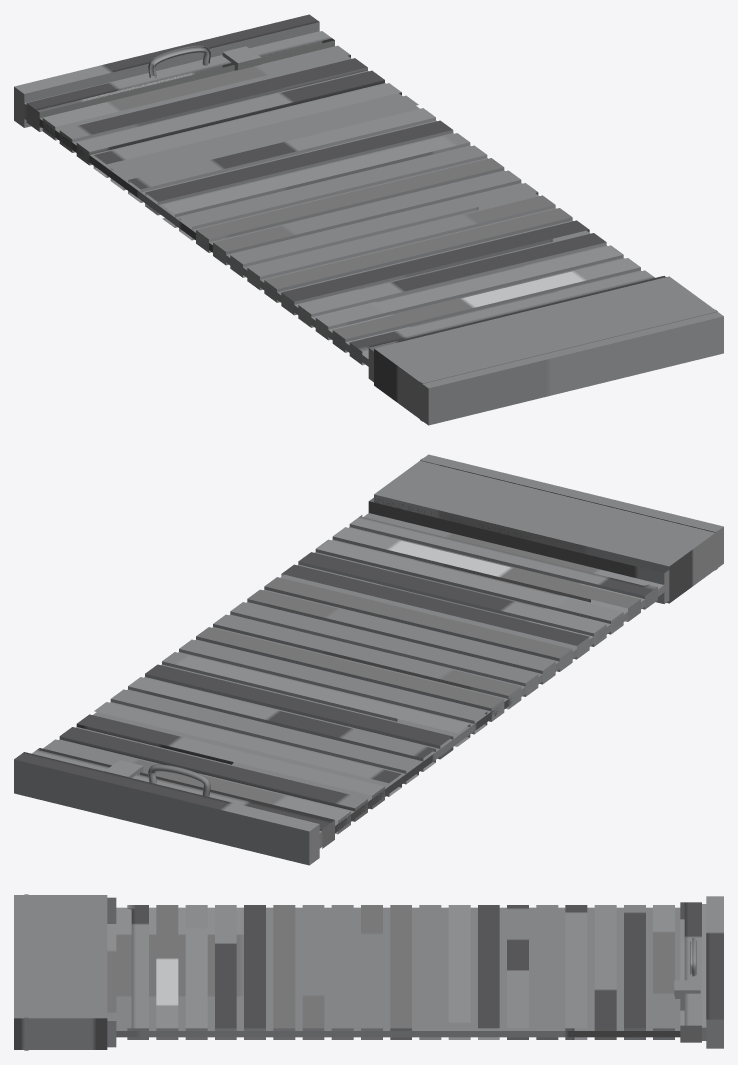
3 views of the same model, one above another, from view 1: azimuth 30°, elevation 25°; view 2: azimuth 150°, elevation 25°; view 3: azimuth 270°, elevation 25° (orthographic). The views are drawn at different scales.
Size of the model in its own units: 1 by 0.2031 by 2.43.
